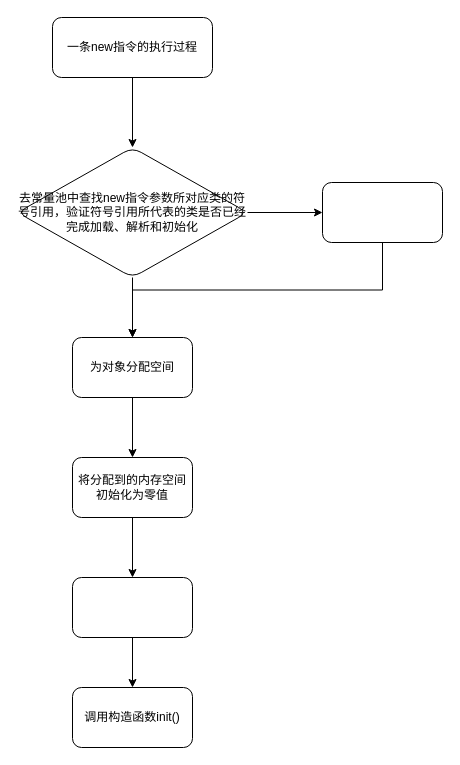
The diagram is 460 pixels wide and 765 high, and some of its shapes have lost their labels. Here are the shapes that lost their labels. From the top down, the box of each, then its label:
(322, 182, 442, 242): 加载类
(72, 576, 192, 638): 设置对象头信息
